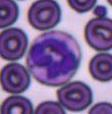N: (27, 30, 81, 85)
